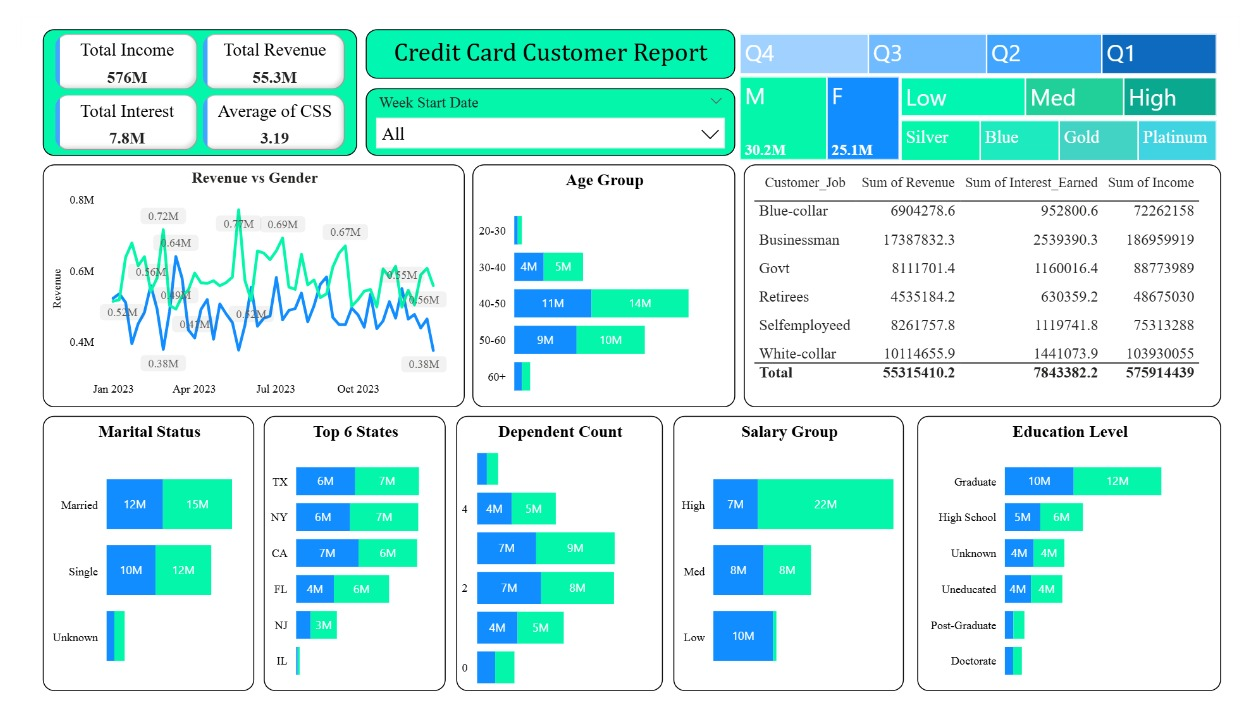

What the dashboard file says about the page in this screenshot:
{"tool":"powerbi","page":{"name":"Page 1","canvas":[1280,720],"ordinal":0},"visuals":[{"type":"textbox","box":[361.9,14.5,388.5,51.9],"z":0},{"type":"cardVisual","title":"Total Revenue","fields":{"Data":["Sum(customer_detail.Income)","Sum(credit_card.Revenue)","Sum(credit_card.Interest_Earned)","Avg(customer_detail.Cust_Satisfaction_Score)"]},"box":[22.9,14.5,330.6,132.7],"z":1000},{"type":"treemap","fields":{"Group":["credit_card.Qtr"],"Values":["Avg(credit_card.Client_Num)"]},"box":[750.4,14.5,509.1,51.9],"z":2000},{"type":"slicer","fields":{"Values":["credit_card.Week_Start_Date"]},"box":[361.9,76,388.5,71.2],"z":3000},{"type":"treemap","fields":{"Group":["customer_detail.Gender"],"Values":["Sum(credit_card.Revenue)"]},"box":[750.4,59.1,176.1,96.5],"z":4000},{"type":"treemap","fields":{"Values":["Avg(credit_card.Client_Num)"],"Group":["credit_card.Card_Category"]},"box":[919.3,105,340.2,50.7],"z":5000},{"type":"lineChart","title":"Revenue vs Gender","fields":{"Y":["Sum(credit_card.Revenue)"],"Series":["customer_detail.Gender"],"Category":["credit_card.Week_Start_Date.Variation.Date Hierarchy.Year","credit_card.Week_Start_Date.Variation.Date Hierarchy.Month","credit_card.Week_Start_Date.Variation.Date Hierarchy.Day"]},"box":[22.9,155.6,442.8,255.8],"z":7000},{"type":"barChart","title":"Salary Group","fields":{"Category":["customer_detail.IncomeGroup"],"Y":["Sum(credit_card.Revenue)"],"Series":["customer_detail.Gender"]},"box":[685.3,419.8,241.3,289.5],"z":7001},{"type":"barChart","title":"Age Group","fields":{"Category":["customer_detail.AgeGroup"],"Y":["Sum(credit_card.Revenue)"],"Series":["customer_detail.Gender"]},"box":[474.1,155.6,276.3,255.8],"z":7002},{"type":"barChart","title":"Dependent Count","fields":{"Y":["Sum(credit_card.Revenue)"],"Category":["customer_detail.Dependent_Count"],"Series":["customer_detail.Gender"]},"box":[457.2,419.8,217.2,289.5],"z":7003},{"type":"barChart","title":"Marital Status","fields":{"Y":["Sum(credit_card.Revenue)"],"Category":["customer_detail.Marital_Status"],"Series":["customer_detail.Gender"]},"box":[22.9,419.8,222,289.5],"z":7005},{"type":"tableEx","fields":{"Values":["customer_detail.Customer_Job","Sum(credit_card.Revenue)","Sum(credit_card.Interest_Earned)","Sum(customer_detail.Income)"]},"box":[758.9,155.6,500.7,255.8],"z":7006},{"type":"treemap","fields":{"Values":["Sum(credit_card.Client_Num)"],"Group":["customer_detail.IncomeGroup"]},"box":[919.3,59.1,340.2,50.7],"z":7007},{"type":"barChart","title":" Education Level","fields":{"Y":["Sum(credit_card.Revenue)"],"Category":["customer_detail.Education_Level"],"Series":["customer_detail.Gender"]},"box":[941,419.8,318.5,289.5],"z":7008},{"type":"barChart","title":"Top 6 States","fields":{"Y":["Sum(credit_card.Revenue)"],"Series":["customer_detail.Gender"],"Category":["customer_detail.State_cd"]},"box":[254.6,419.8,191.8,289.5],"z":7009}]}

Visuals, with their boxes in screenshot pixels (x1, y1, x2, y2), scaled from the page's 1280x720 canvas onto the 1260x716 screenshot:
textbox: bbox=(356, 14, 739, 66)
"Total Revenue" cardVisual: bbox=(23, 14, 348, 146)
treemap - credit_card.Qtr x Avg(credit_card.Client_Num): bbox=(739, 14, 1240, 66)
slicer - credit_card.Week_Start_Date: bbox=(356, 76, 739, 146)
treemap - customer_detail.Gender x Sum(credit_card.Revenue): bbox=(739, 59, 912, 155)
treemap - Avg(credit_card.Client_Num) x credit_card.Card_Category: bbox=(905, 104, 1240, 155)
"Revenue vs Gender" lineChart: bbox=(23, 155, 458, 409)
"Salary Group" barChart: bbox=(675, 417, 912, 705)
"Age Group" barChart: bbox=(467, 155, 739, 409)
"Dependent Count" barChart: bbox=(450, 417, 664, 705)
"Marital Status" barChart: bbox=(23, 417, 241, 705)
tableEx - customer_detail.Customer_Job x Sum(credit_card.Revenue): bbox=(747, 155, 1240, 409)
treemap - Sum(credit_card.Client_Num) x customer_detail.IncomeGroup: bbox=(905, 59, 1240, 109)
" Education Level" barChart: bbox=(926, 417, 1240, 705)
"Top 6 States" barChart: bbox=(251, 417, 439, 705)
